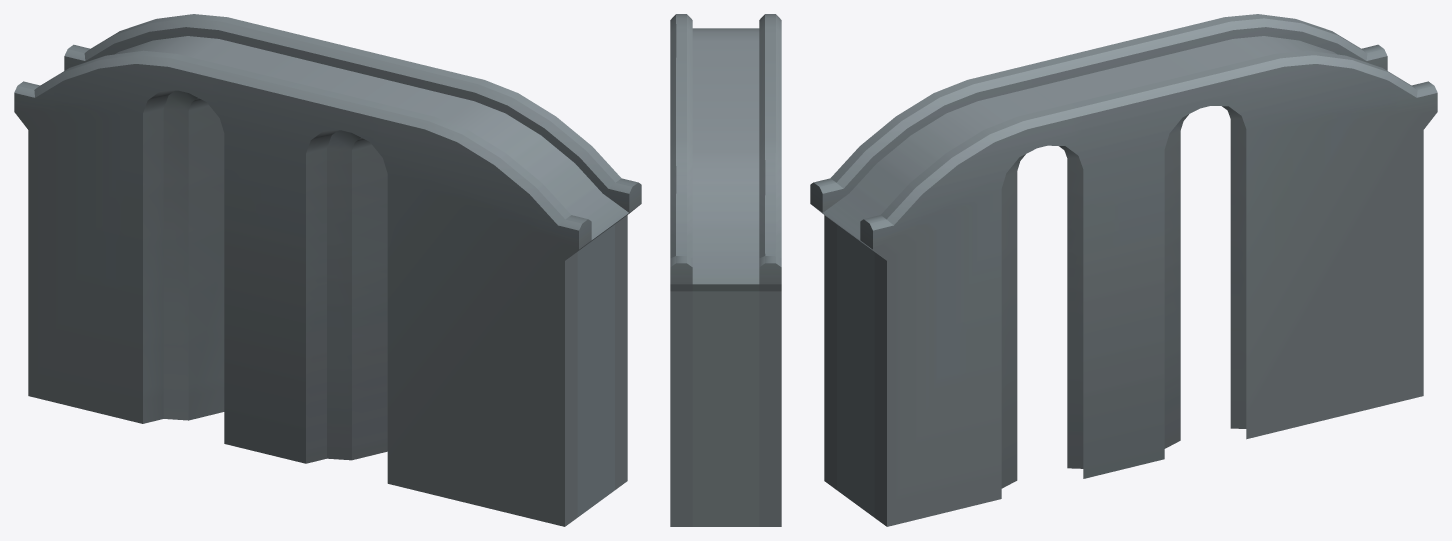
Rendered from kk_bridge_v1.glb.
3 views of the same model, side by side, from view 1: azimuth 30°, elevation 25°; view 2: azimuth 150°, elevation 25°; view 3: azimuth 270°, elevation 25° (orthographic). The views are drawn at different scales.
Visible parts, largest first — view 1: building_bridge_A; view 2: building_bridge_A; view 3: building_bridge_A.
Boxes of the visible parts, box(x1,y1,x2,y2) form: building_bridge_A: box(14, 14, 641, 526); building_bridge_A: box(670, 14, 781, 526); building_bridge_A: box(810, 14, 1437, 526).
Size of the model in its own units: 1.33 by 1.25 by 1.92.
Materials: 1 (1 with a texture image).
